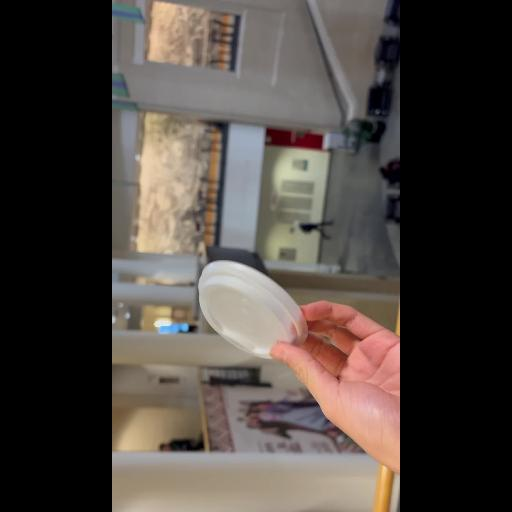lp_cup_lids: (196, 256, 310, 358)
